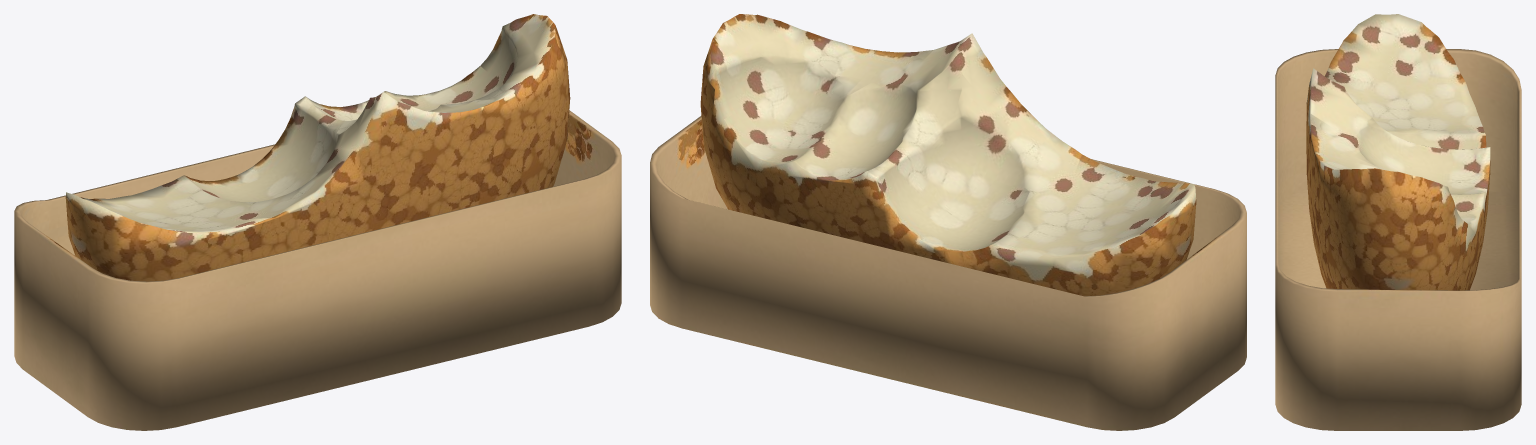
File: korokke_b2.glb
The picture shows the model from 3 angles, left to right: view 1: azimuth 30°, elevation 25°; view 2: azimuth 150°, elevation 25°; view 3: azimuth 270°, elevation 25°; orthographic projection. The views are drawn at different scales.
Parts seen in each view (by area): view 1: prop_korokke_b2_felt; view 2: prop_korokke_b2_felt; view 3: prop_korokke_b2_felt.
Part boxes in pixels (bbox=[...]): prop_korokke_b2_felt: bbox=[14, 14, 621, 430]; prop_korokke_b2_felt: bbox=[650, 14, 1246, 430]; prop_korokke_b2_felt: bbox=[1275, 14, 1521, 430].
Size of the model in its own units: 0.168 by 0.0811 by 0.072.
1 material, 1 textured.
